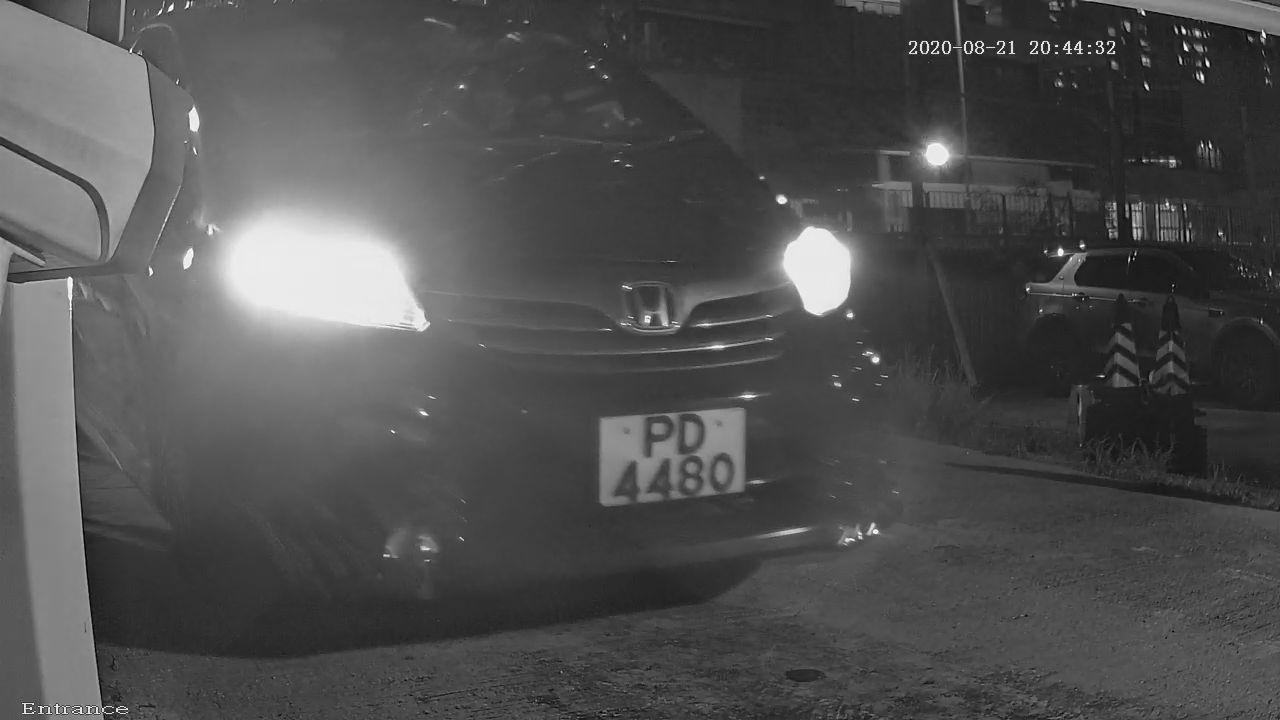License Plate: (578, 389, 779, 535)
